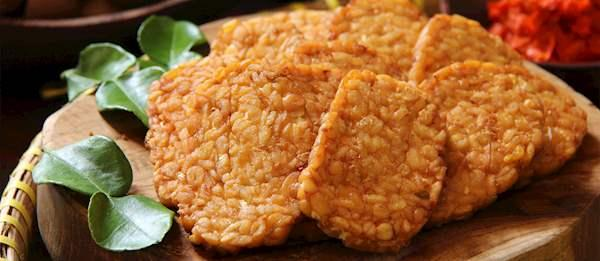buah_sayur_lainnya: (96, 209, 161, 242), (108, 57, 155, 94), (66, 154, 114, 189)
kacang_legume: (181, 75, 286, 209), (343, 95, 408, 238), (241, 21, 424, 67), (454, 58, 507, 185)
